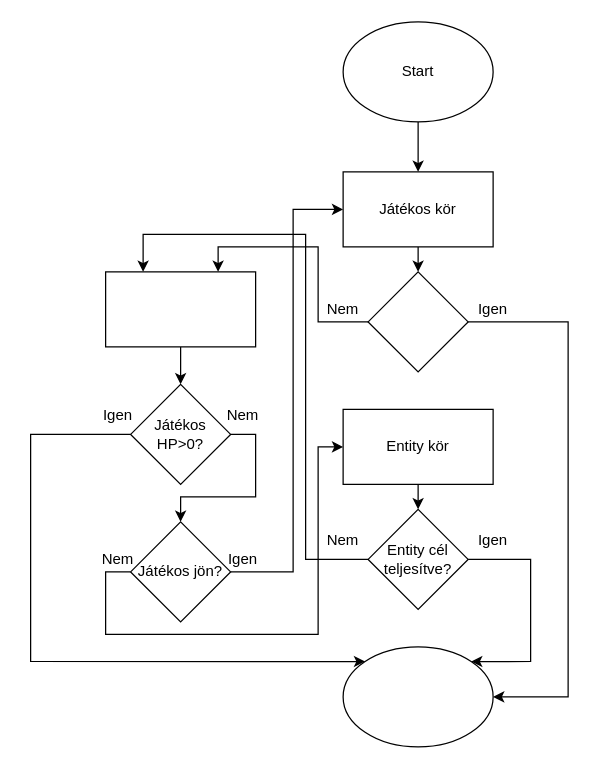
This 600x769 diagram has some shape labels left out. The box of each missing label's shape, as (x1, y1, x2, y2) in pixels:
Játékos cél teljesítve?: (367, 271, 468, 372)
Sebzés számlálás: (104, 271, 256, 347)
Stop: (342, 646, 493, 747)
